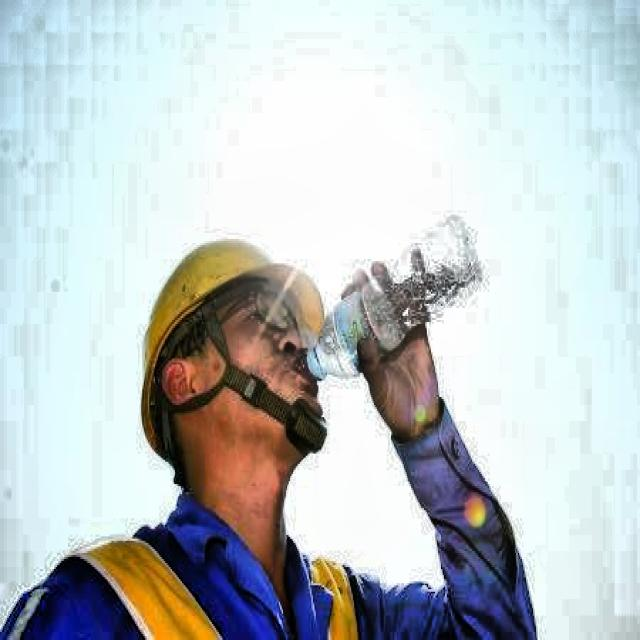helmet: (114, 196, 351, 539)
